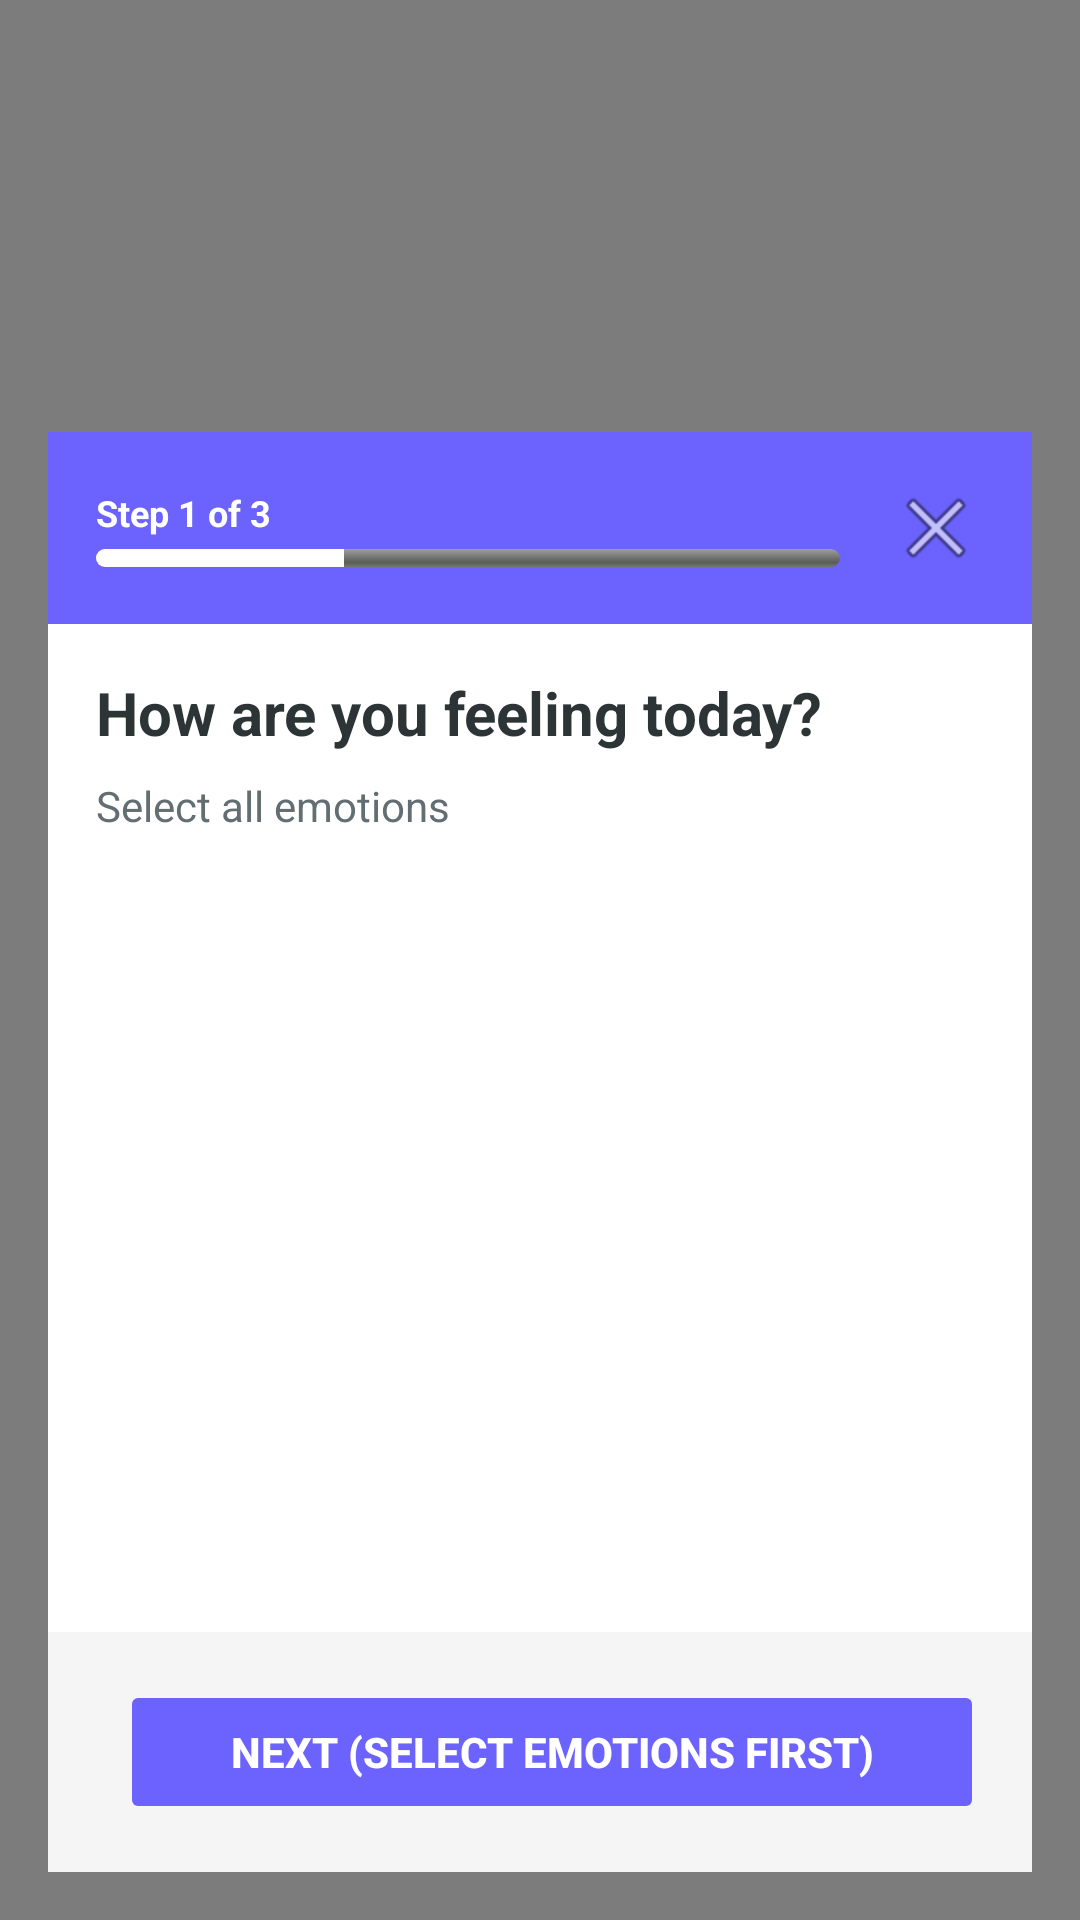

Named icons in this screenshot (1080w x 1920h) and their centers, (x,y):
Close: (936,528)
